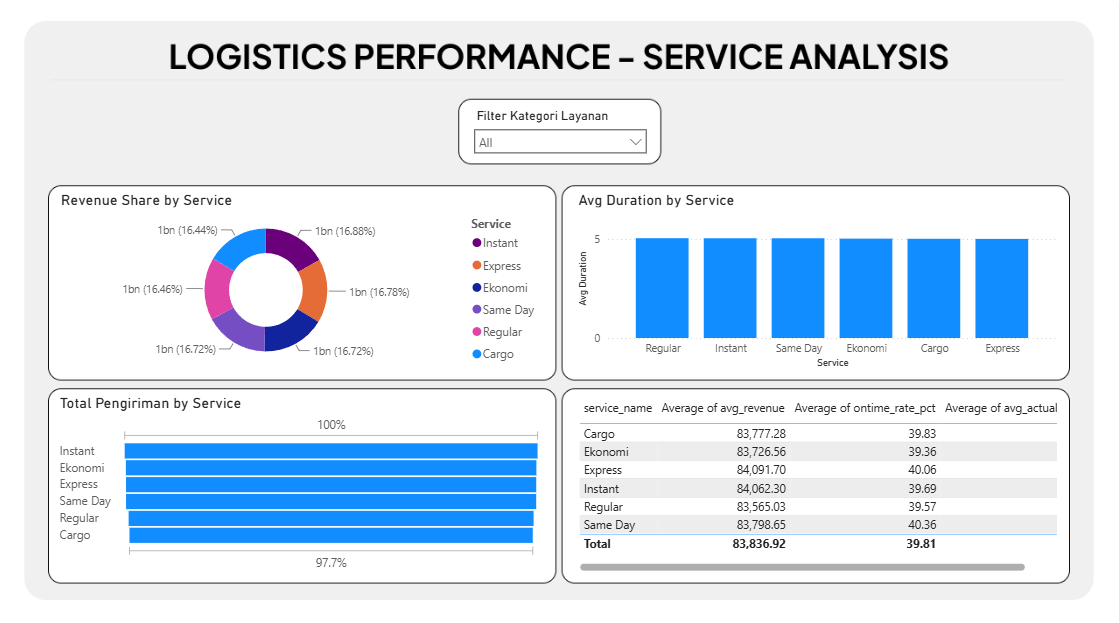

This screenshot's page, from the dashboard's own definition file:
{"tool":"powerbi","page":{"name":"Service Analysis","canvas":[1280,720],"ordinal":4},"visuals":[{"type":"donutChart","fields":{"Category":["dw vw_ServiceAnalysis.service_name"],"Y":["Sum(dw vw_ServiceAnalysis.total_revenue)"]},"box":[65.7,220,560,208.6],"z":0},{"type":"clusteredColumnChart","fields":{"Category":["dw vw_ServiceAnalysis.service_name"],"Y":["Avg(dw vw_ServiceAnalysis.avg_actual_days)"]},"box":[657.1,220,557.1,208.6],"z":1000},{"type":"funnel","fields":{"Y":["Sum(dw vw_ServiceAnalysis.total_pengiriman)"],"Category":["dw vw_ServiceAnalysis.service_name"]},"box":[64.3,452.9,561.4,207.1],"z":1001},{"type":"tableEx","fields":{"Values":["dw vw_ServiceAnalysis.service_name","Avg(dw vw_ServiceAnalysis.avg_revenue)","Avg(dw vw_ServiceAnalysis.ontime_rate_pct)","Avg(dw vw_ServiceAnalysis.avg_actual_days)"]},"box":[657.1,452.9,557.1,207.1],"z":1002},{"type":"slicer","fields":{"Values":["dw vw_ServiceAnalysis.service_category"]},"box":[532.9,121.4,217.1,61.4],"z":1003}]}

Visuals, with their boxes in screenshot pixels (x1, y1, x2, y2), scaled from the page's 1280x720 canvas onto the 1120x623 screenshot:
donutChart - dw vw_ServiceAnalysis.service_name x Sum(dw vw_ServiceAnalysis.total_revenue): <bbox>57, 190, 547, 371</bbox>
clusteredColumnChart - dw vw_ServiceAnalysis.service_name x Avg(dw vw_ServiceAnalysis.avg_actual_days): <bbox>575, 190, 1062, 371</bbox>
funnel - Sum(dw vw_ServiceAnalysis.total_pengiriman) x dw vw_ServiceAnalysis.service_name: <bbox>56, 392, 547, 571</bbox>
tableEx - dw vw_ServiceAnalysis.service_name x Avg(dw vw_ServiceAnalysis.avg_revenue): <bbox>575, 392, 1062, 571</bbox>
slicer - dw vw_ServiceAnalysis.service_category: <bbox>466, 105, 656, 158</bbox>
